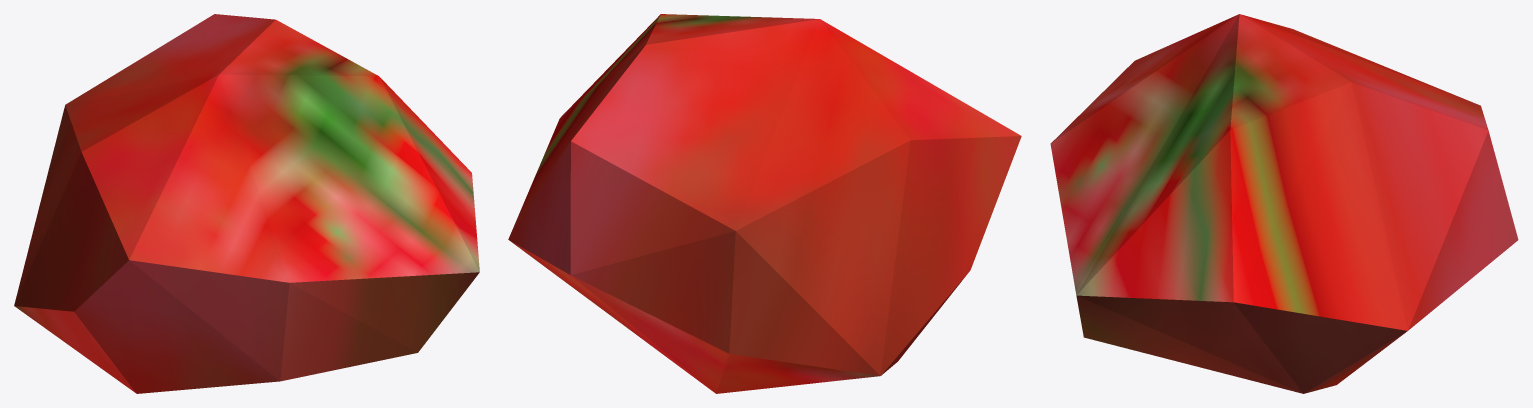
File: soup-tomato.glb
3 views of the same model, side by side, from view 1: azimuth 30°, elevation 25°; view 2: azimuth 150°, elevation 25°; view 3: azimuth 270°, elevation 25° (orthographic). The views are drawn at different scales.
Visible parts, largest first — view 1: soup-tomato; view 2: soup-tomato; view 3: soup-tomato.
Boxes of the visible parts, bbox=[...] form: soup-tomato: bbox=[14, 14, 479, 393]; soup-tomato: bbox=[508, 14, 1021, 393]; soup-tomato: bbox=[1050, 14, 1518, 393].
Bounding box in the file's own units: 0.1909 × 0.1548 × 0.1903.
Materials: 1 (1 with a texture image).
